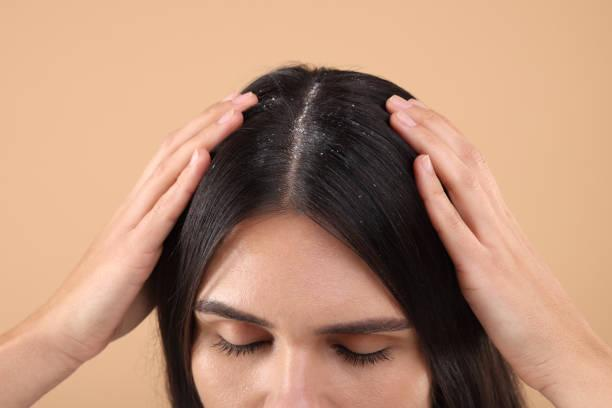dandruff: (285, 115, 340, 168), (351, 189, 366, 203), (266, 92, 279, 108), (345, 99, 360, 112)
